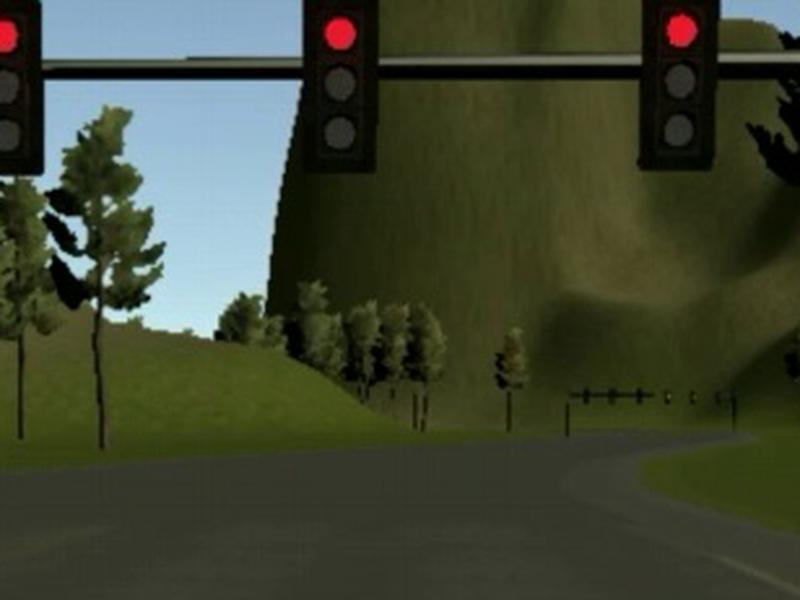Red: (636, 1, 721, 171), (301, 1, 378, 175), (1, 1, 44, 176)
